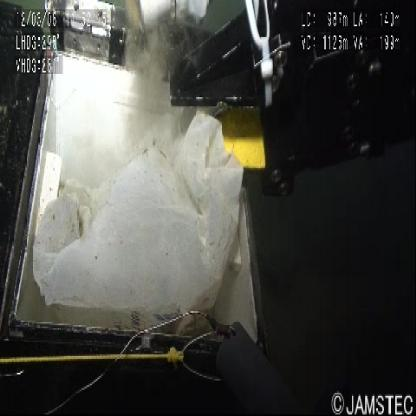Rov: (43, 1, 415, 224)
Rác: (19, 113, 255, 342)
